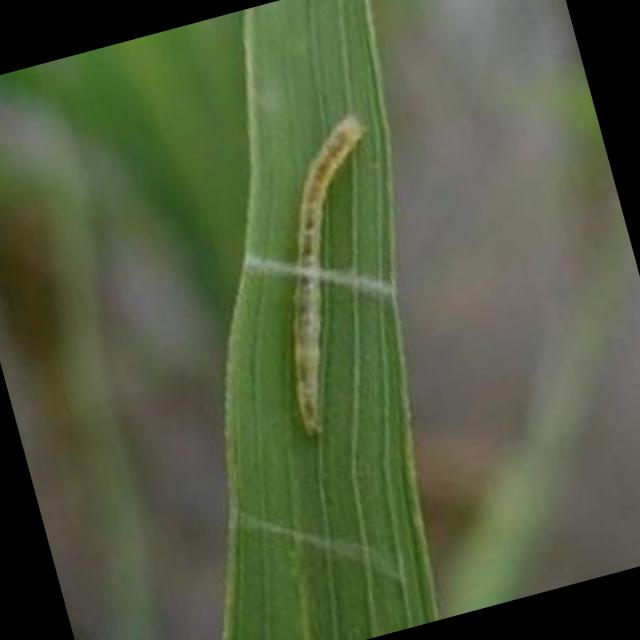leaf-folder: (213, 93, 454, 464)
